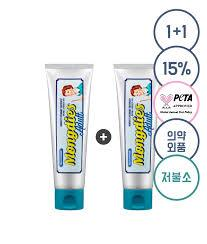toothpaste: (41, 49, 90, 215)
